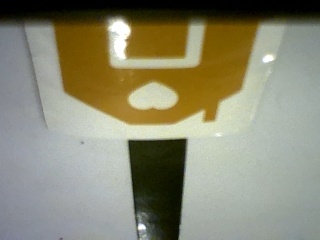Rescue_Station: (52, 23, 260, 126)
